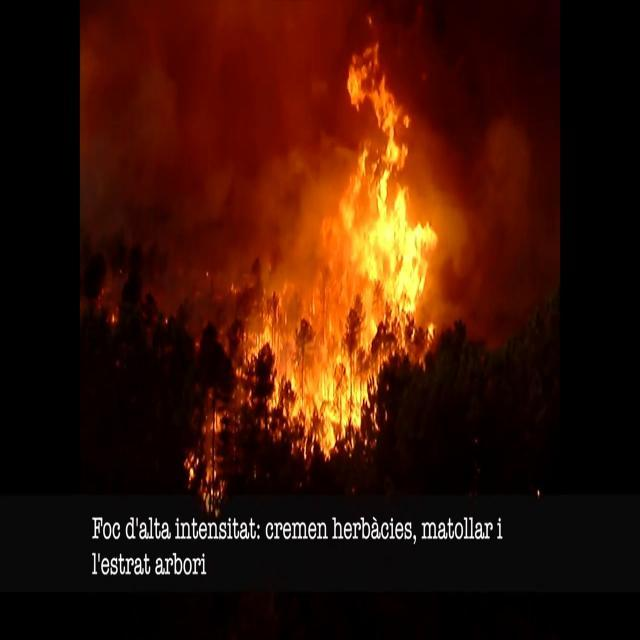Fire: (251, 21, 449, 458)
Smoke: (80, 1, 327, 312), (424, 67, 560, 356)
